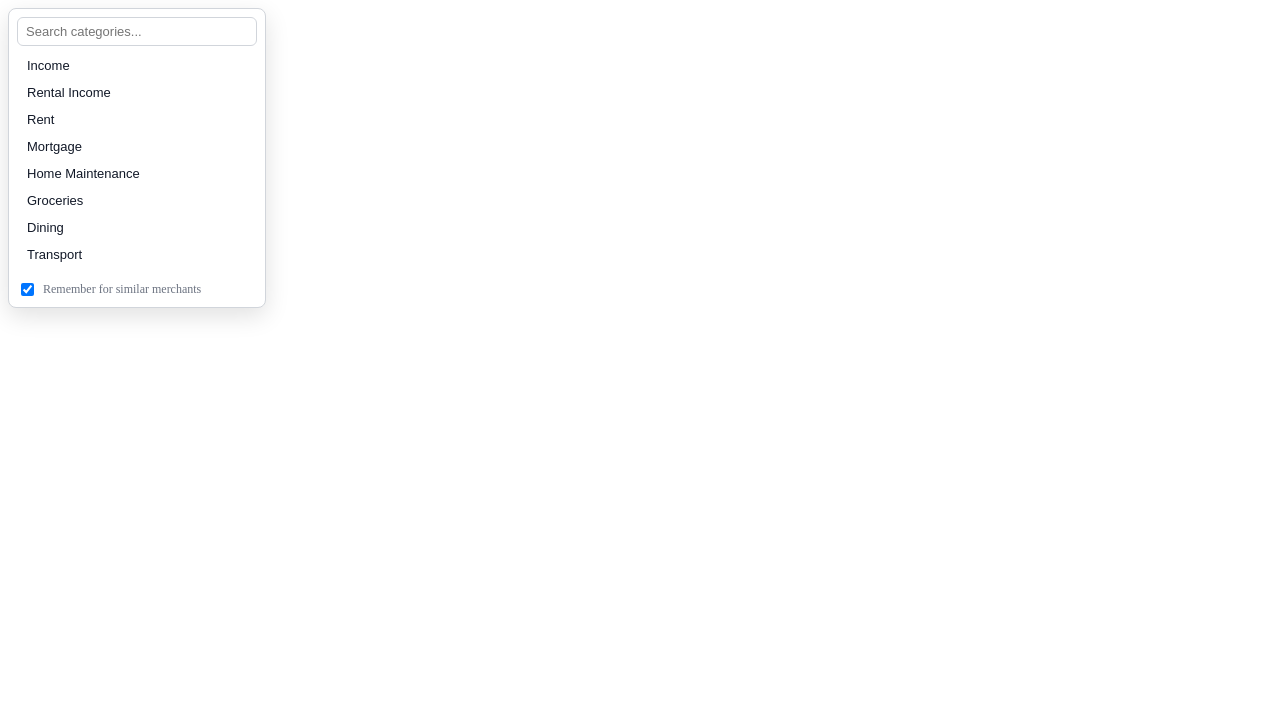
Scenario: QuickTag › filters categories by search query
The image size is (1280, 720).
Type "gro" into the field with placeholder "Search categories..." at {"x": 137, "y": 32}, box [17,17,257,46]
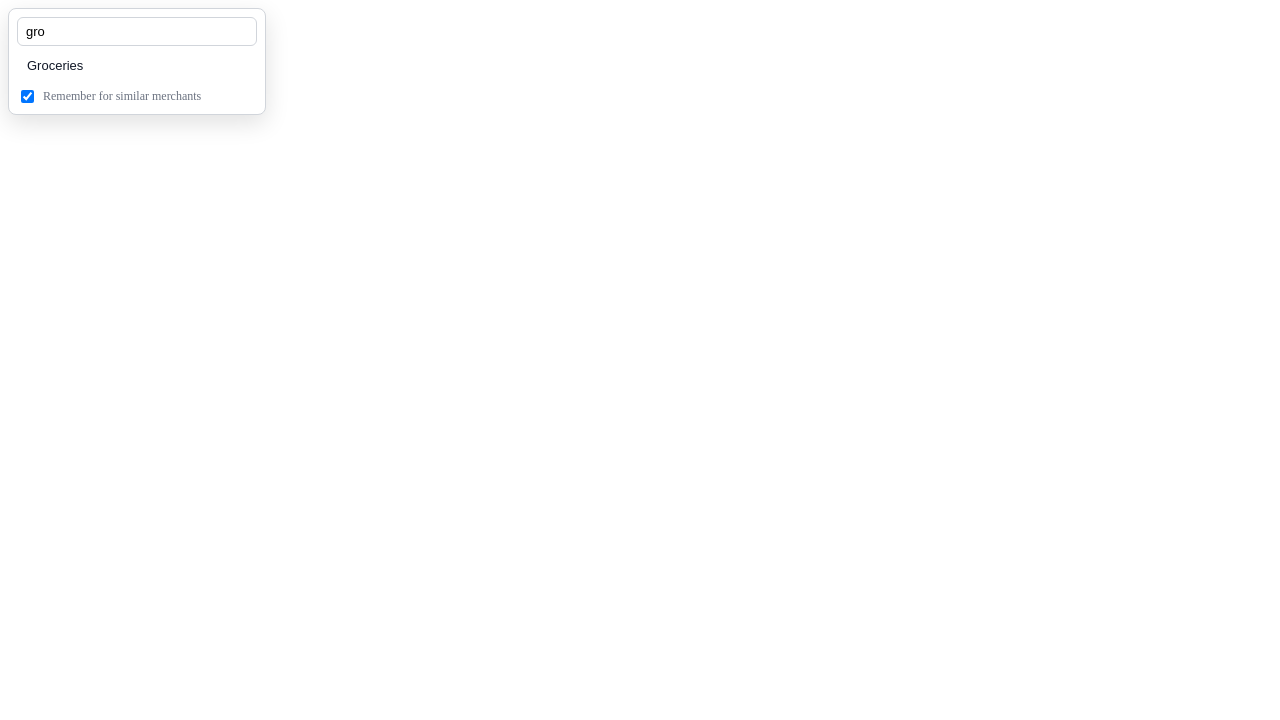
Expected: the button "Groceries" is shown, [17,52,257,79]
Expected: the button "Dining" is gone
